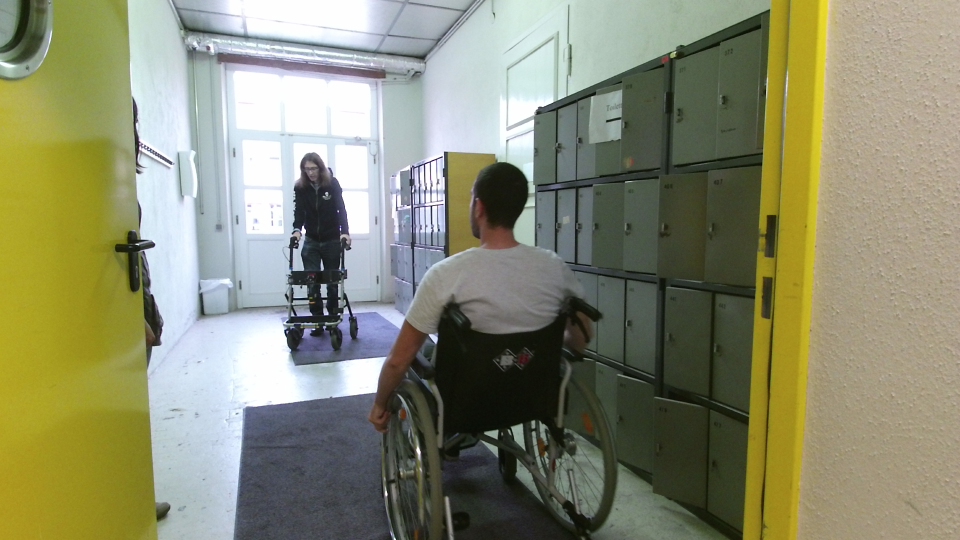wheelchair: (364, 155, 621, 540)
